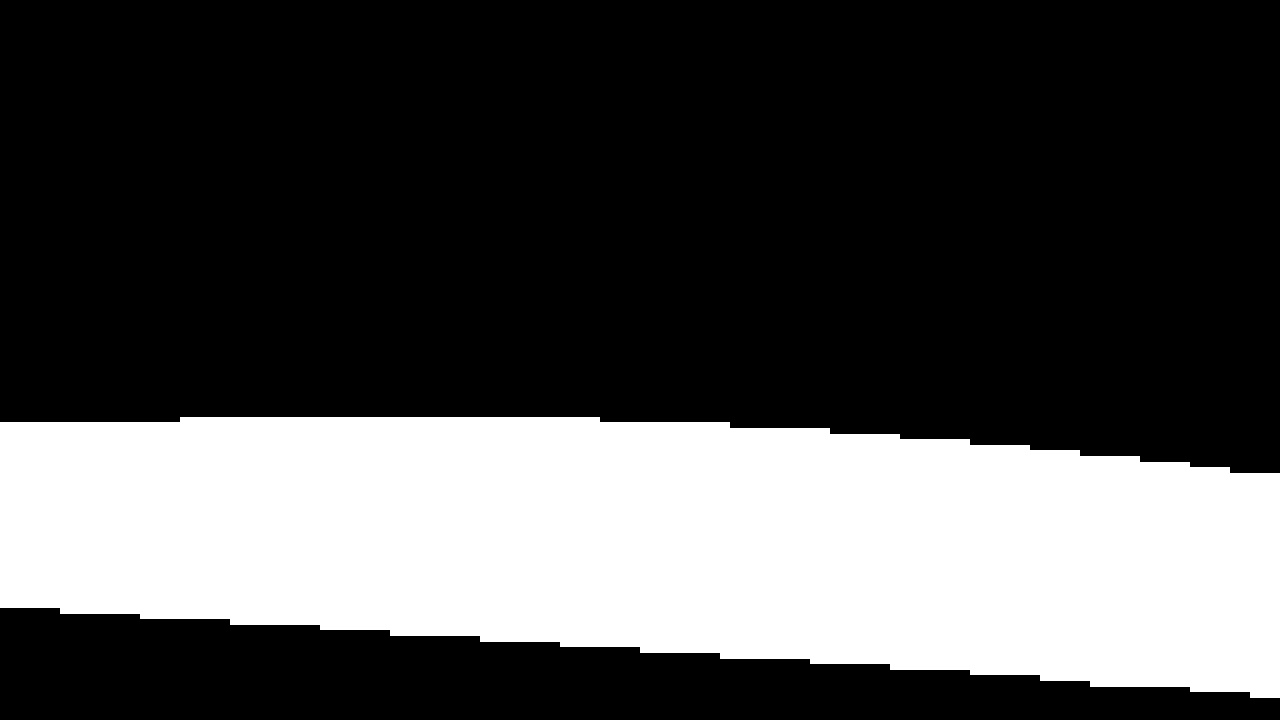Turbine: (2, 452, 1261, 666)
